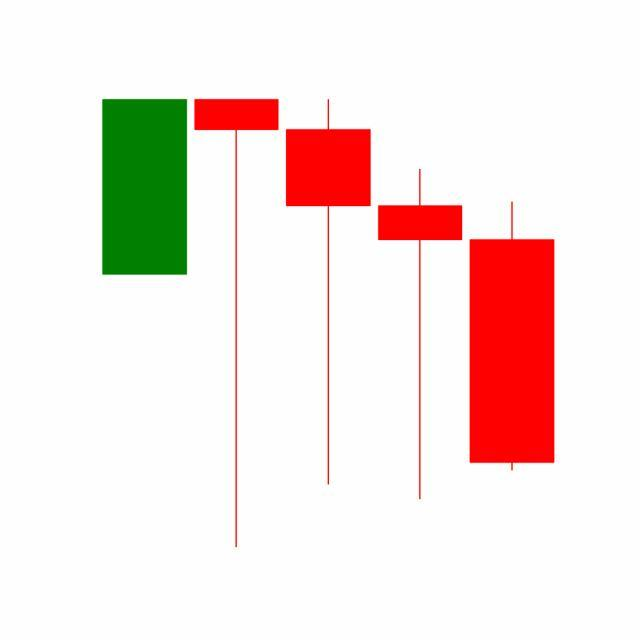Spinning Top: (374, 166, 468, 504)
